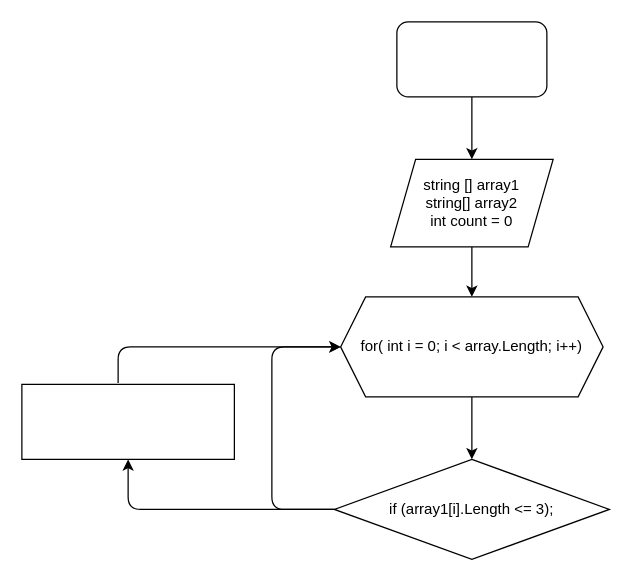
Some shapes in this 631 by 581 pixel diagram are drawn without their labels. The box of each missing label's shape, as (x1, y1, x2, y2) in pixels:
array2 [count] = array1[i]; count++: (21, 383, 234, 459)
начало: (396, 21, 547, 97)
